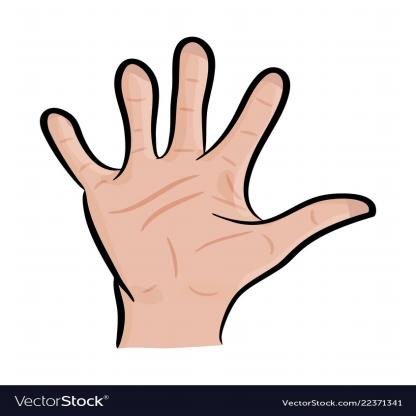palm: (8, 26, 391, 374)
